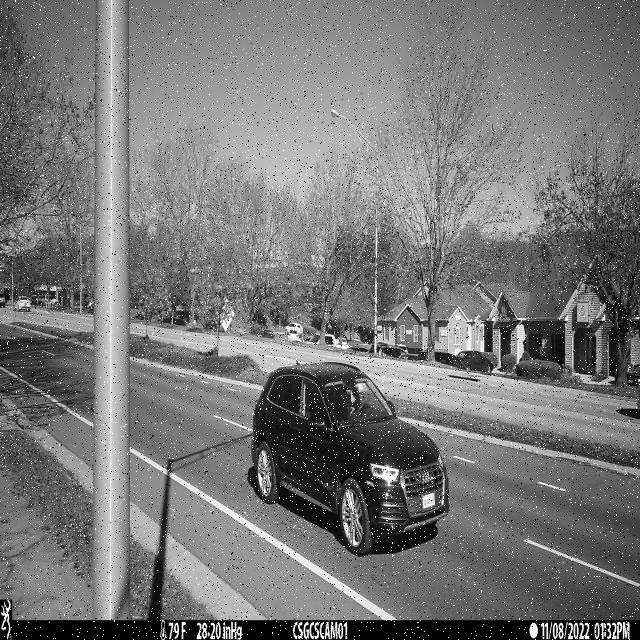SUV: (252, 362, 449, 557)
